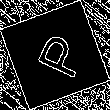P_NW: (25, 28, 85, 82)
